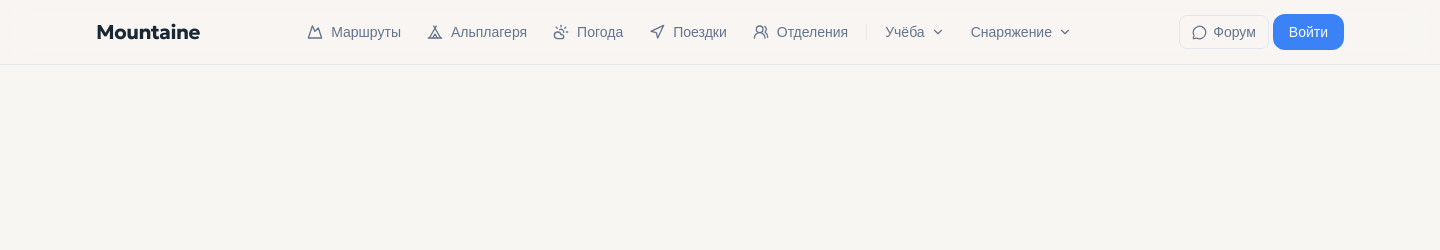
Test case: Navbar › renders navigation links
This screenshot has width=1440, height=250.
Expected: the link "Маршруты" is shown, [307,23,401,41]
Click the button "Учёба". click: (915, 32)
box: [873,14,957,50]
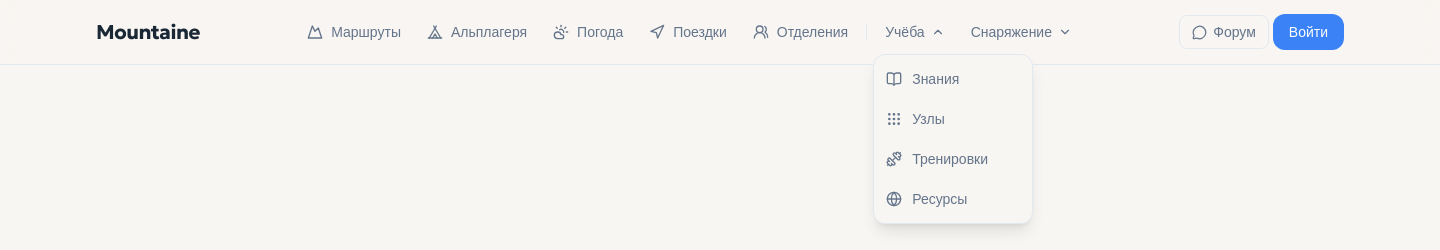
Expected: the link "Знания" is shown, [886,70,959,88]
Expected: the link "Узлы" is shown, [886,110,945,128]
Expected: the link "Тренировки" is shown, [886,150,988,168]
Click the button "Снаряжение". click: (1021, 32)
box: [959,14,1084,50]
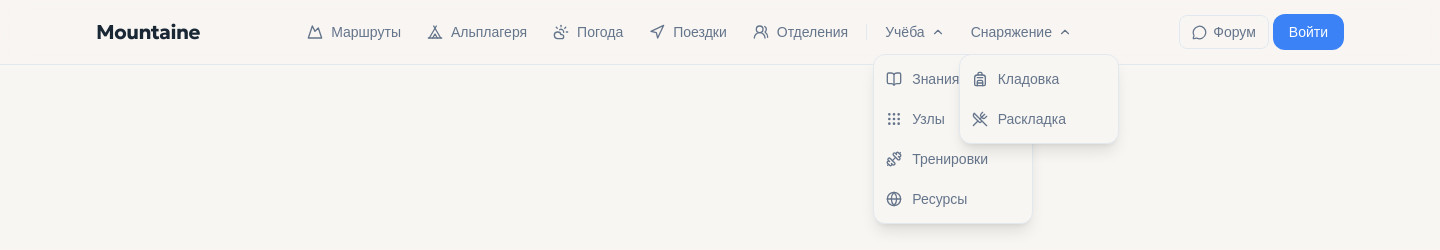
Expected: the link "Кладовка" is shown, [972,70,1059,88]
